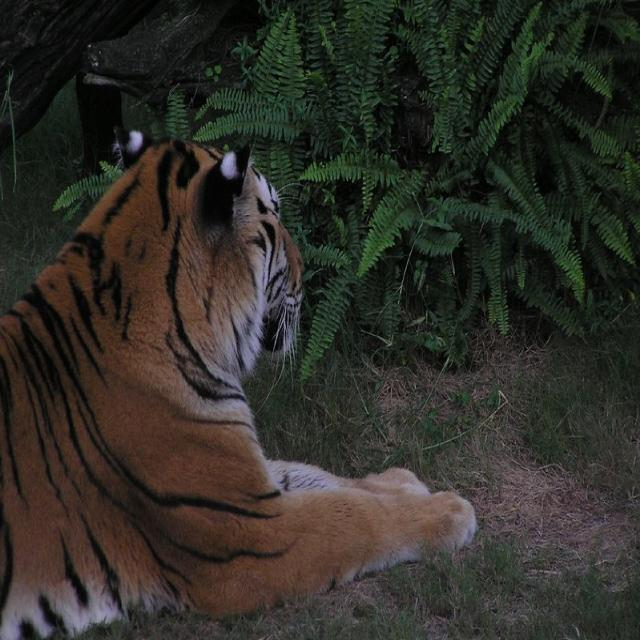Tiger: (0, 134, 474, 637)
